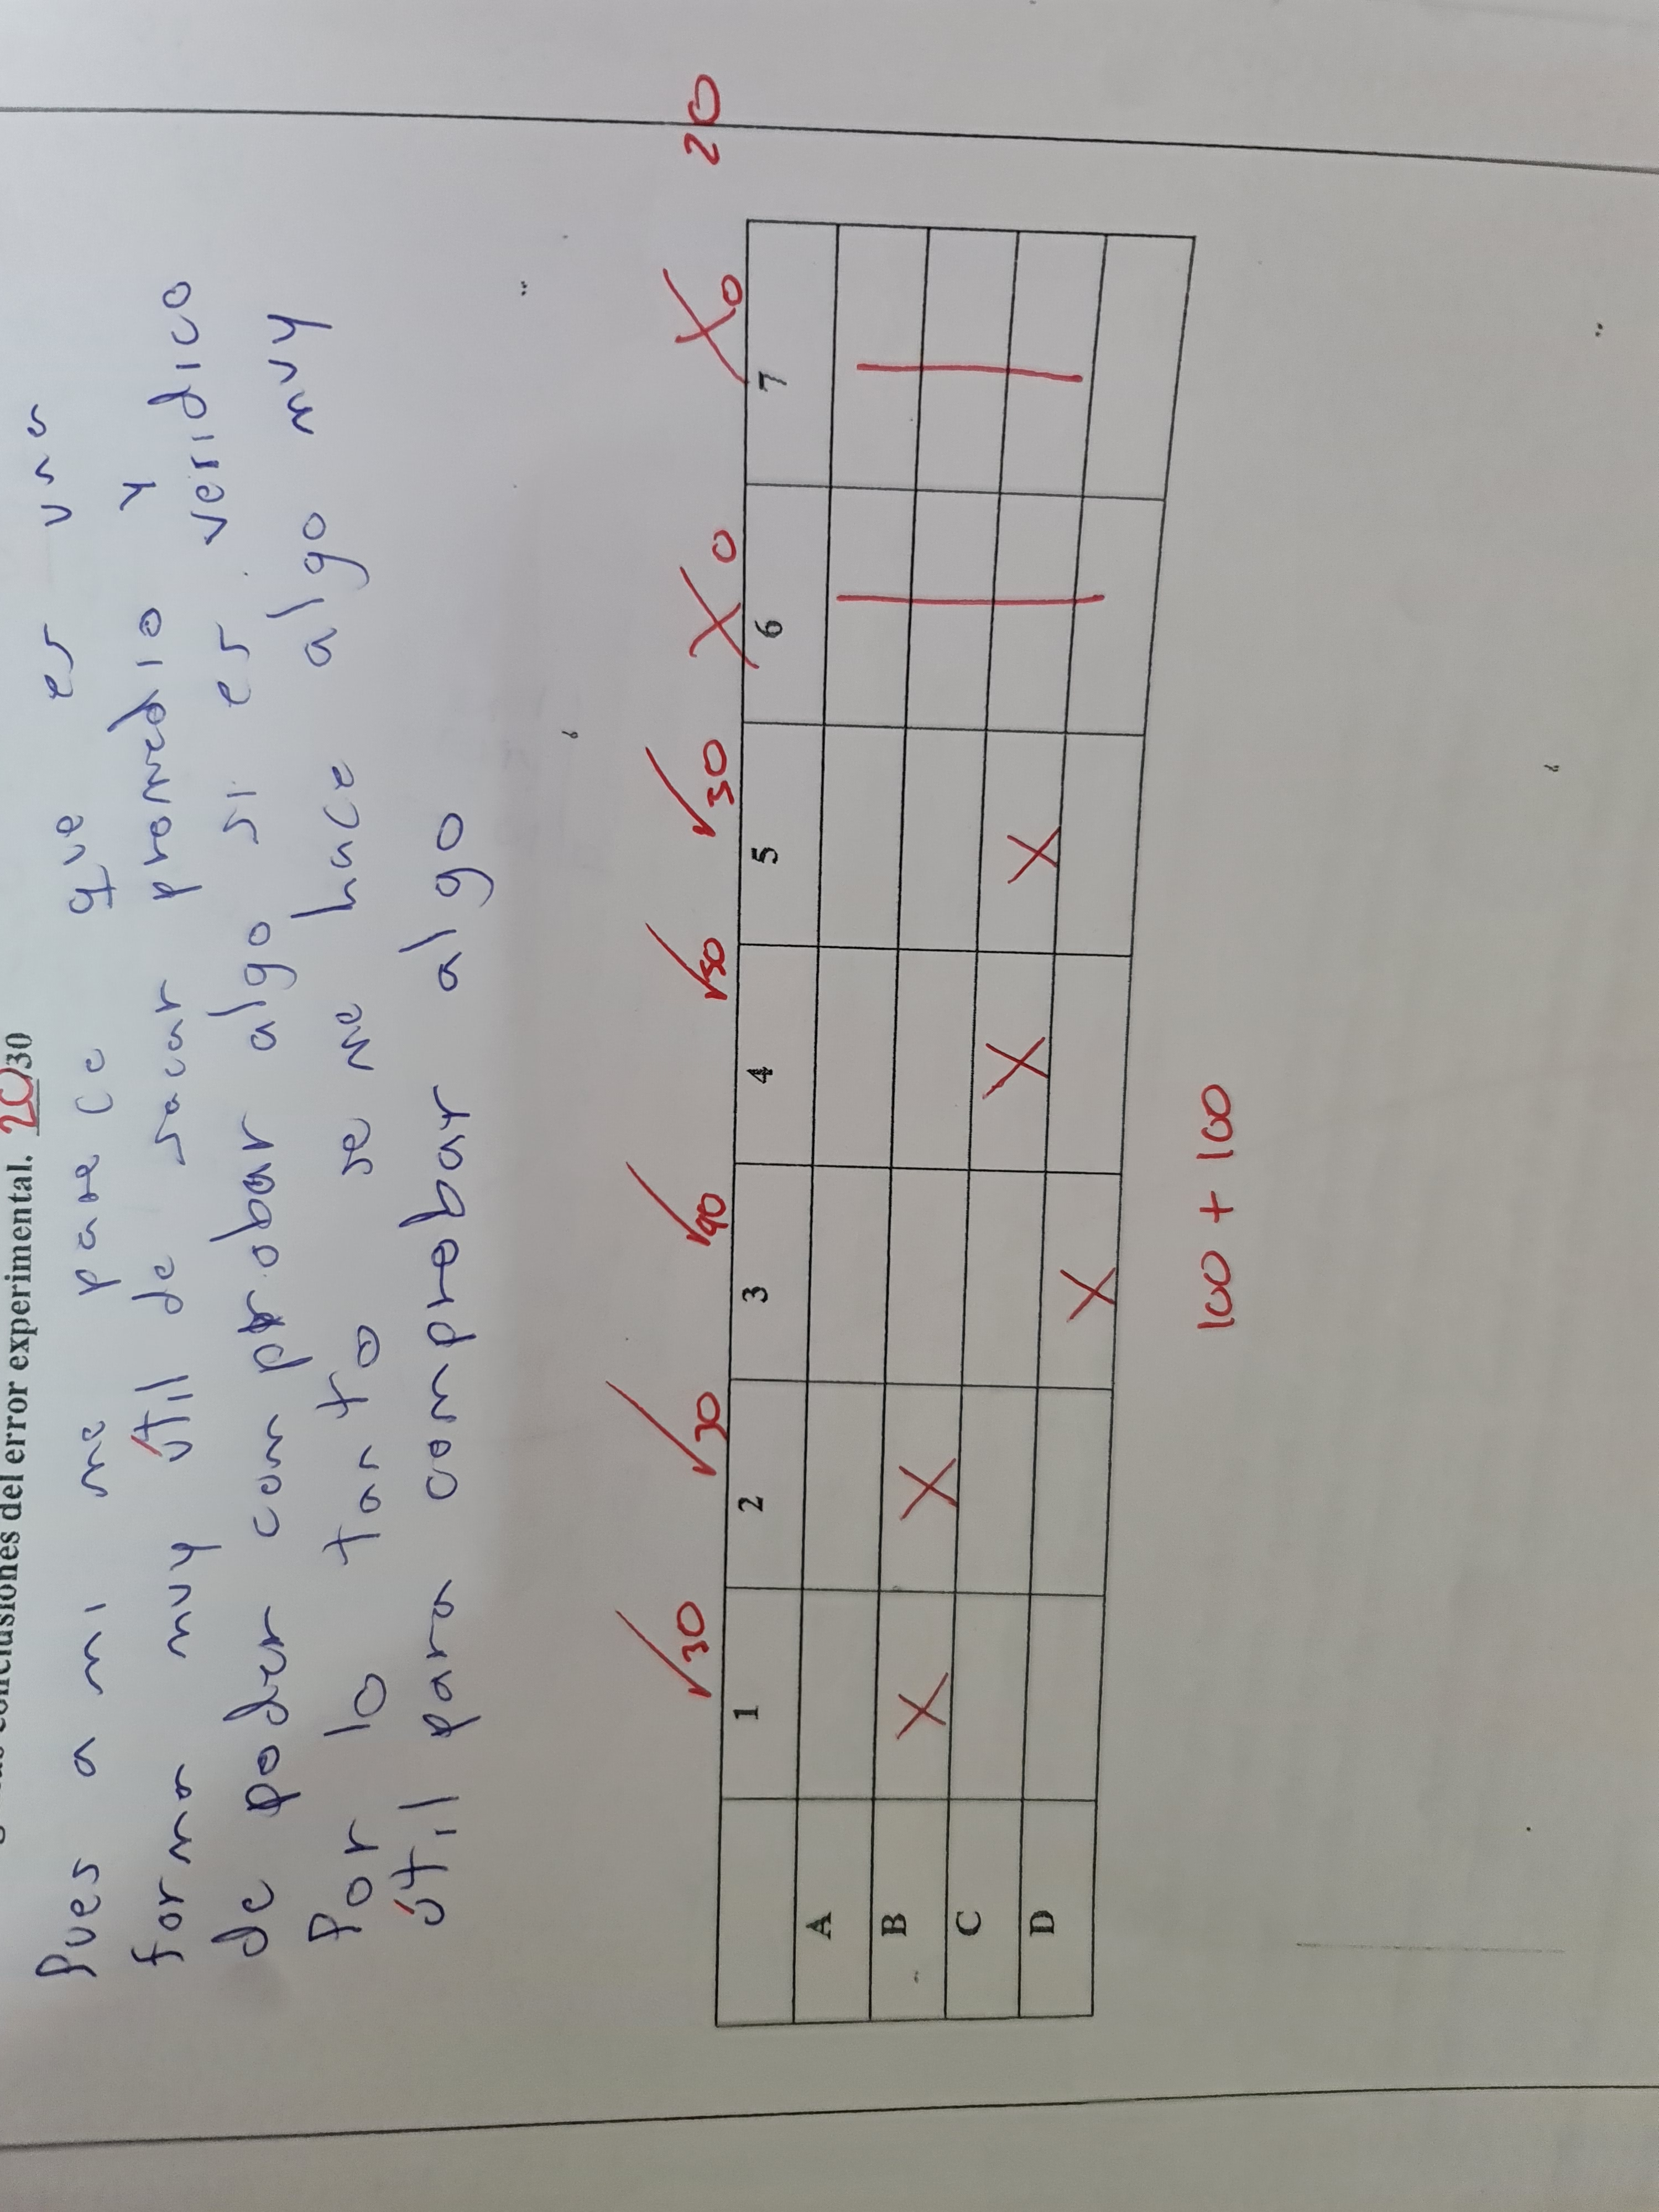column: (685, 1775, 1127, 2047), (720, 707, 1164, 965), (699, 1364, 1147, 1618), (713, 1153, 1147, 1404), (694, 1568, 1126, 1806), (727, 941, 1154, 1181)
